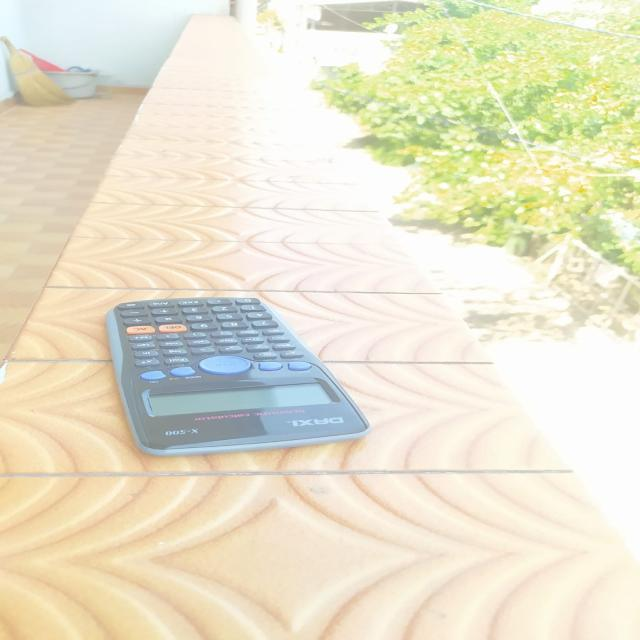Calculator: (98, 299, 364, 459)
